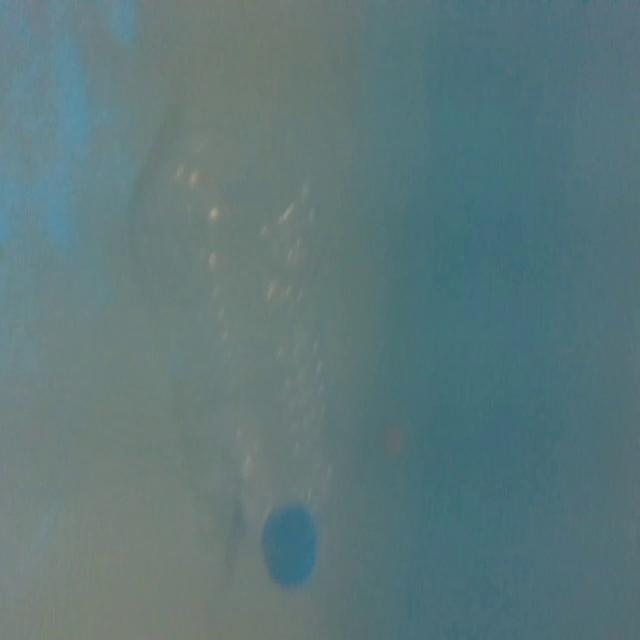plastic bottle: (167, 142, 348, 593)
